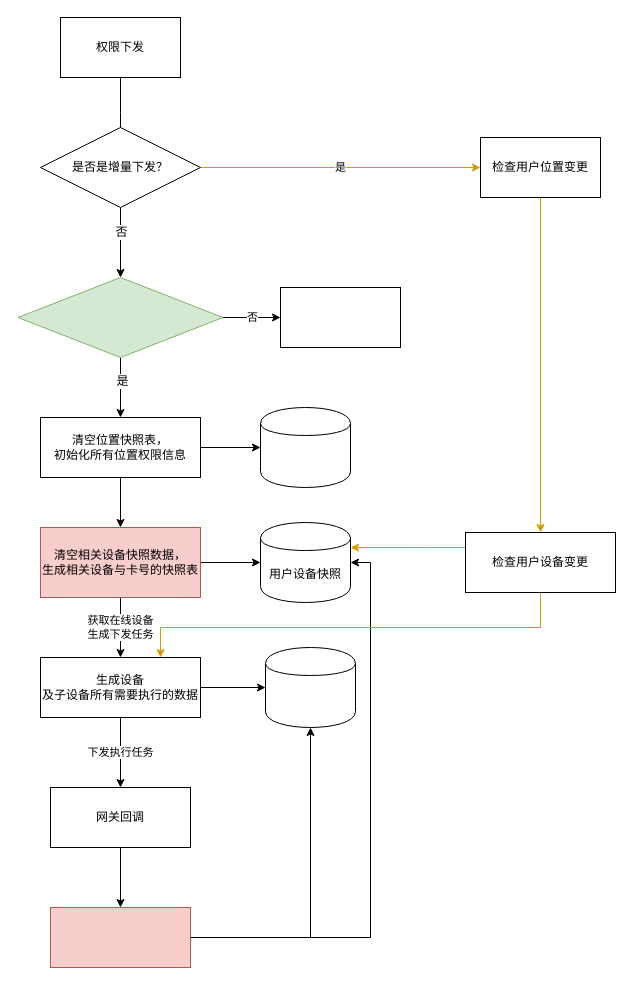
This 633x985 diagram has some shape labels left out. Here are the shapes that lost their labels. From the top down, the centre of each, then its label:
the point at 120,317: 是否是全量下发所有设备？
the point at 305,447: 用户位置快照
the point at 310,687: 设备任务表
the point at 120,937: 更新设备位置快照 及任务
